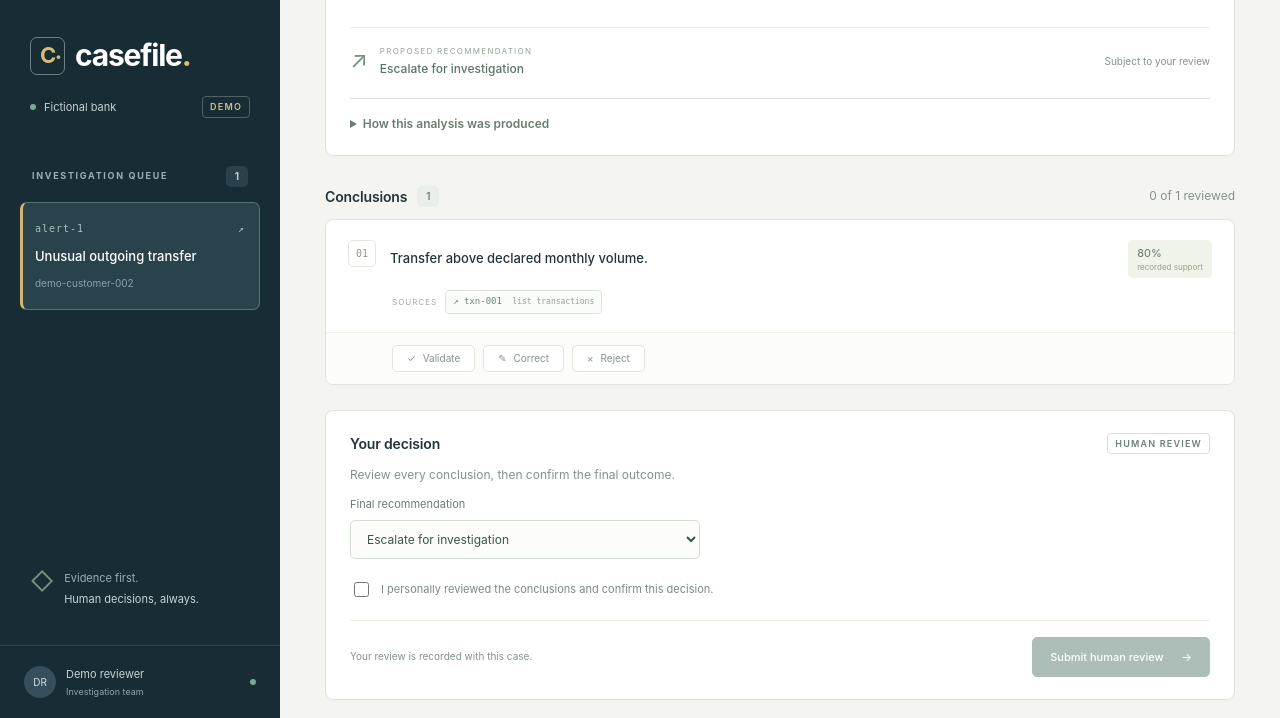
it: investigation history › opens the latest active run and keeps prior reviews read-only
(page scrolled)
Step 1. Click the button with aria-label "Validate conclusion 1" → x=434, y=358, box [392,345,475,372]
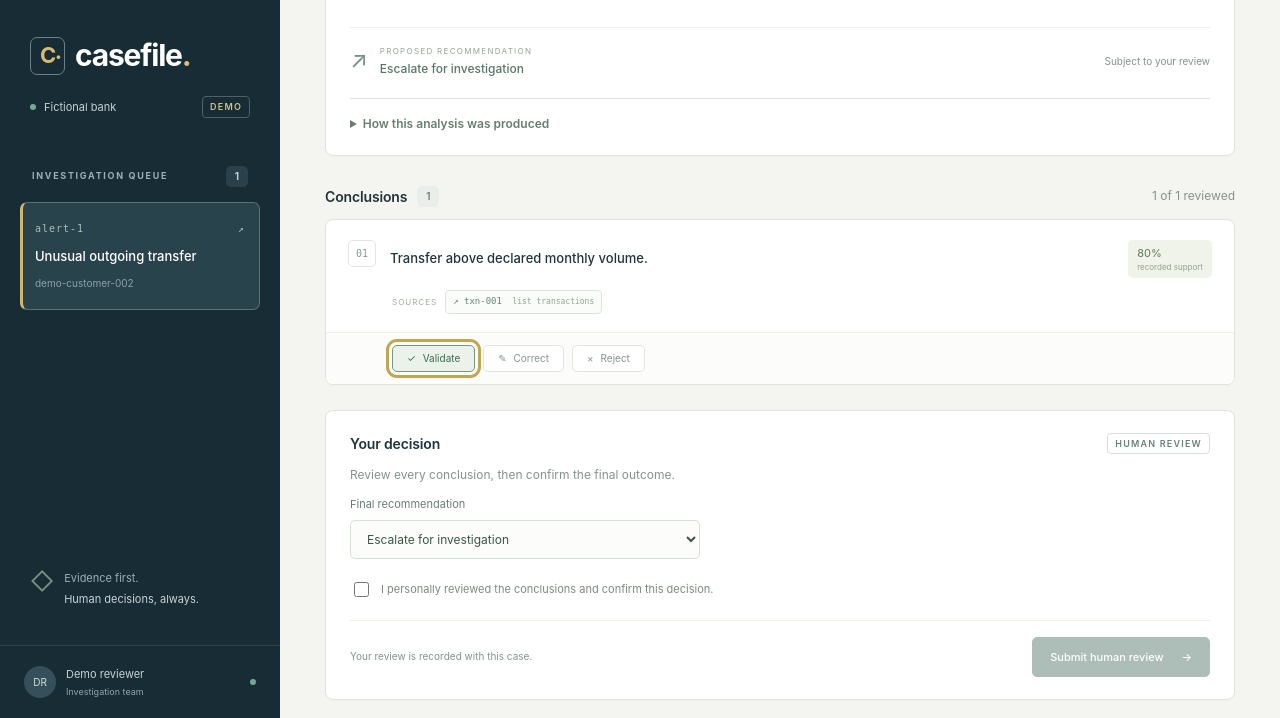
Step 2. Click the checkbox → x=362, y=589, box [354,582,369,597]
(page scrolled)
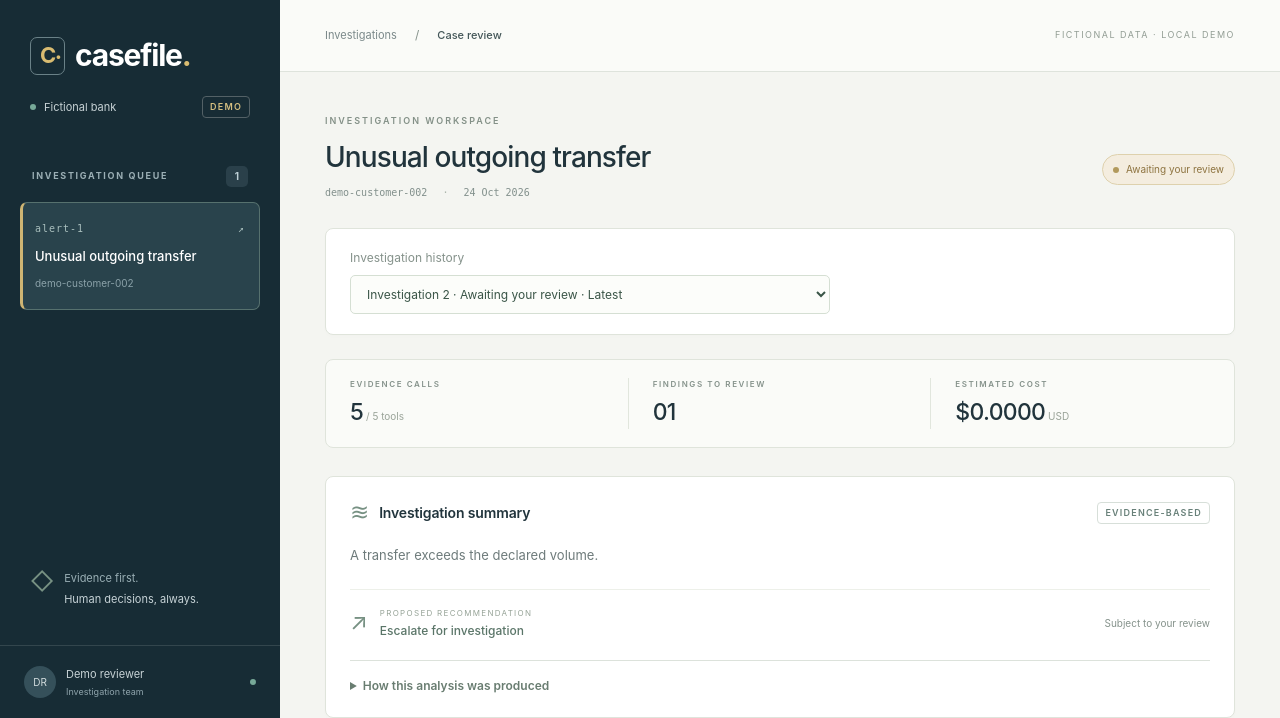
Step 3. Select "Investigation 1 · Review complete" in the dropdown labelled "Investigation history" → x=590, y=294, box [350,274,830,314]
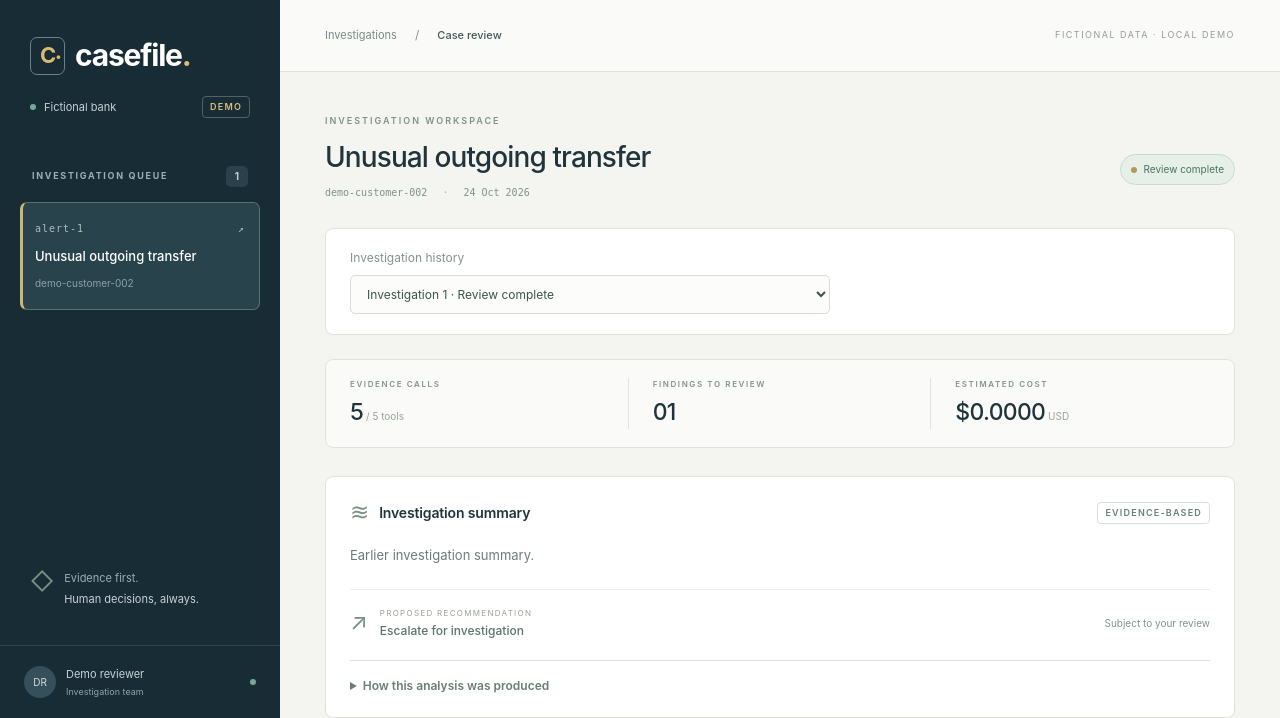
Expected: the button "Submit human review" is not shown
Now the text "Earlier investigation summary." is shown, box [350,547,534,563]
Step 4. Select "Investigation 2 · Awaiting your review · Latest" in the dropdown labelled "Investigation history" → x=590, y=294, box [350,274,830,314]
(page scrolled)
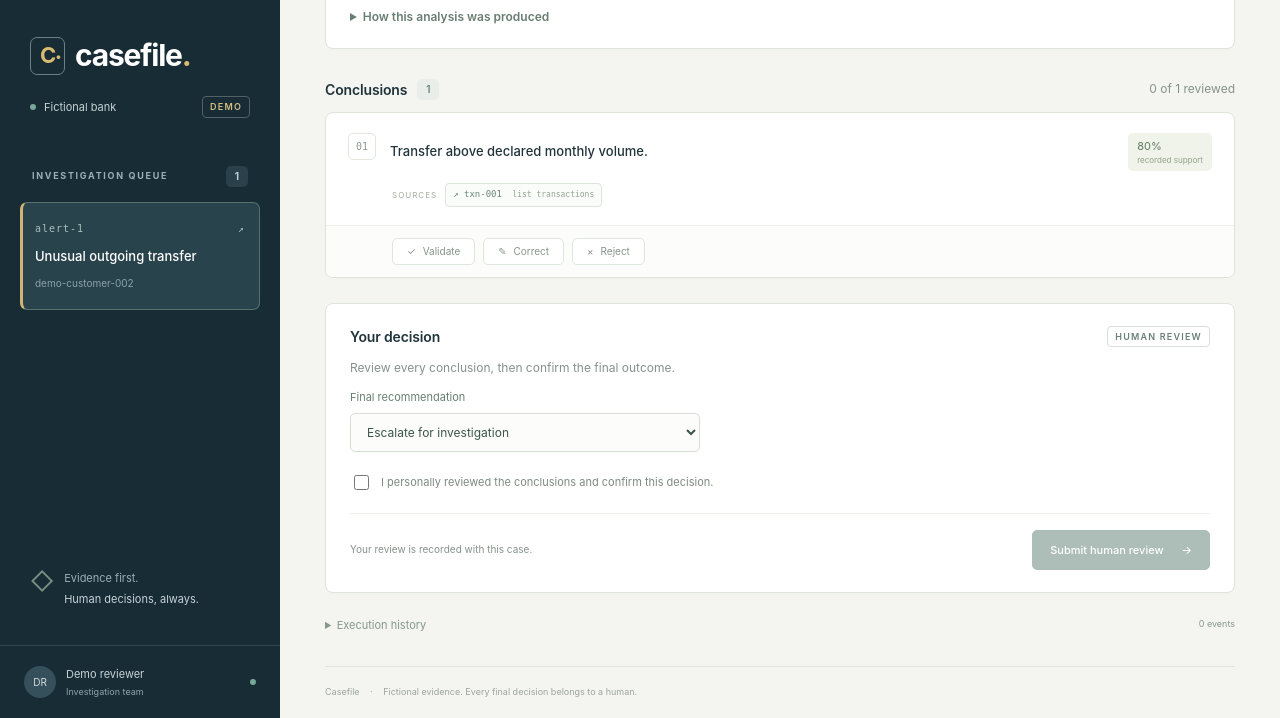
Now the checkbox is not checked, box [354,475,369,490]
Now the button "Submit human review →" is disabled, box [1032,530,1210,570]
